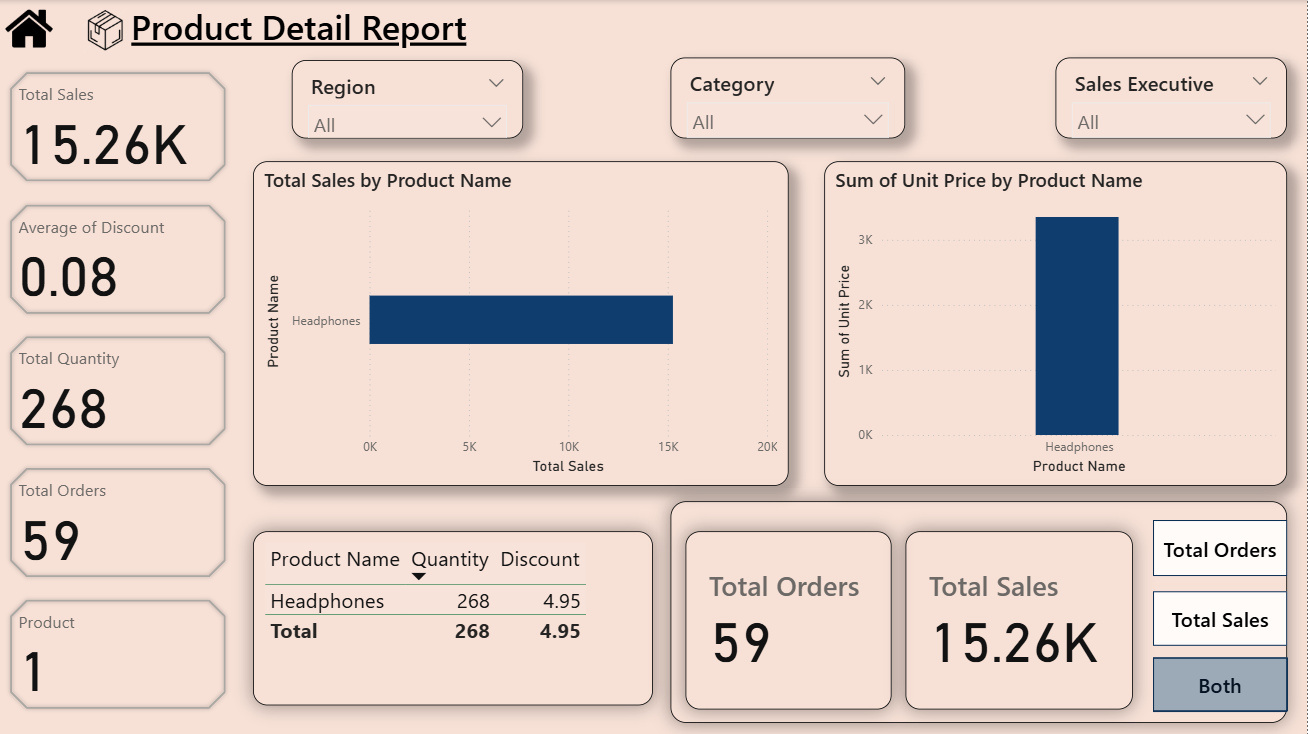

The page's visual inventory and layout, read from the dashboard file:
{"tool":"powerbi","page":{"name":"Product Detail Report","canvas":[1280,720],"ordinal":2},"visuals":[{"type":"shape","box":[0,0,1279.7,50.5],"z":0},{"type":"slicer","fields":{"Values":["SalesData.Sales Executive"]},"box":[1034.5,56.3,226.5,79.4],"z":1000},{"type":"slicer","fields":{"Values":["ProductDetails.Category"]},"box":[657.9,56.3,229.4,79.4],"z":2000},{"type":"slicer","fields":{"Values":["SalesData.Region"]},"box":[287.1,59.2,226.5,76.5],"z":3000},{"type":"cardVisual","fields":{"Data":["SalesData.#Total_sales_revenue","Avg(SalesData.Discount)","Sum(SalesData.Quantity)","SalesData.#Total_orders","SalesData.#Unique_product_sold"]},"box":[0,59.2,235.2,647.8],"z":4000},{"type":"clusteredBarChart","fields":{"Category":["ProductDetails.Product Name"],"Y":["SalesData.#Total_sales_revenue"]},"box":[249.6,157.3,523.7,317.4],"z":5000},{"type":"columnChart","fields":{"Category":["ProductDetails.Product Name"],"Y":["Sum(SalesData.Unit Price)"]},"box":[807.9,157.3,453,317.4],"z":6000},{"type":"tableEx","fields":{"Values":["ProductDetails.Product Name","Sum(SalesData.Quantity)","Sum(SalesData.Discount)"]},"box":[249.6,519.4,391,170.2],"z":7000},{"type":"cardVisual","title":"To_sales (new)","fields":{"Data":["SalesData.#Total_sales_revenue"]},"box":[887.3,519.4,222.2,174.6],"z":8000},{"type":"cardVisual","title":"To_orders","fields":{"Data":["SalesData.#Total_orders"]},"box":[672.3,519.4,202,174.6],"z":9000},{"type":"image","box":[0,0,60.6,56.3],"z":10000},{"type":"image","box":[72.1,0,66.4,59.2],"z":11000},{"type":"shape","box":[657.9,490.5,603.1,216.4],"z":12000},{"type":"shape","title":"Order","box":[1130,508.7,131.3,54.8],"z":13000},{"type":"shape","title":"Sales","box":[1129.7,578.5,131.3,53.4],"z":14000},{"type":"shape","title":"Both","box":[1130,642.9,131.3,53.4],"z":17000},{"type":"shape","title":"Both_high","box":[1129.9,643.2,132.1,52.6],"z":18000}]}

Visuals, with their boxes in screenshot pixels (x1, y1, x2, y2), scaled from the page's 1280x720 canvas onto the 1308x734 screenshot:
shape: 0 0 1307 51
slicer - SalesData.Sales Executive: 1057 57 1289 138
slicer - ProductDetails.Category: 672 57 907 138
slicer - SalesData.Region: 293 60 525 138
cardVisual - SalesData.#Total_sales_revenue x Avg(SalesData.Discount): 0 60 240 721
clusteredBarChart - ProductDetails.Product Name x SalesData.#Total_sales_revenue: 255 160 790 484
columnChart - ProductDetails.Product Name x Sum(SalesData.Unit Price): 826 160 1288 484
tableEx - ProductDetails.Product Name x Sum(SalesData.Quantity): 255 529 655 703
"To_sales (new)" cardVisual: 907 529 1134 707
"To_orders" cardVisual: 687 529 893 707
image: 0 0 62 57
image: 74 0 142 60
shape: 672 500 1289 721
"Order" shape: 1155 519 1289 574
"Sales" shape: 1154 590 1289 644
"Both" shape: 1155 655 1289 710
"Both_high" shape: 1155 656 1290 709
